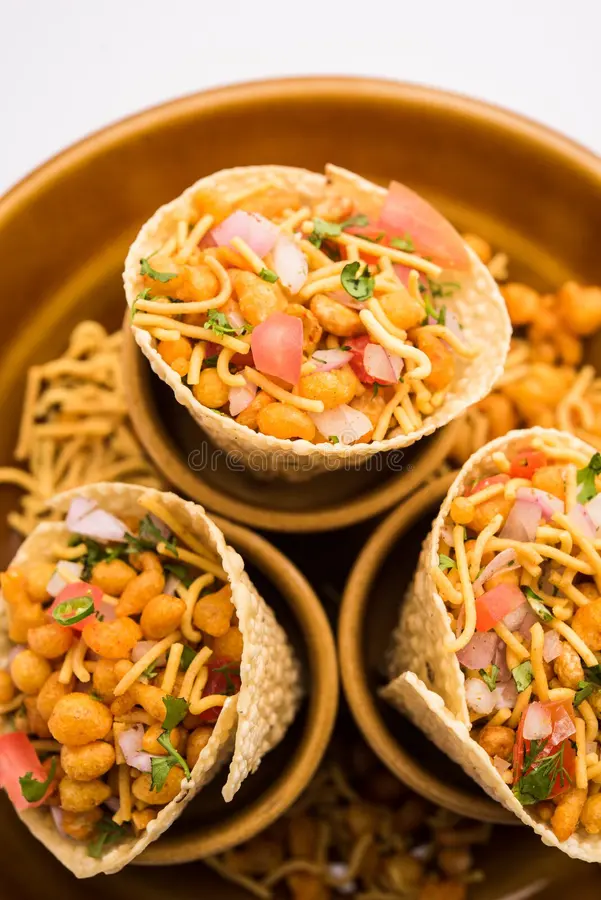chatpate: (150, 222, 454, 442), (12, 576, 214, 802), (460, 484, 601, 782)
